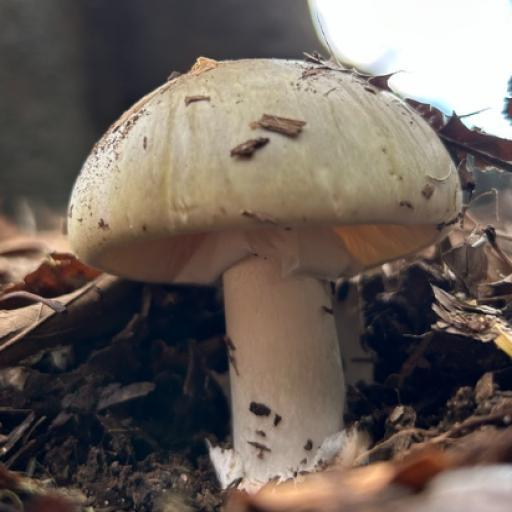mushroom: (0, 0, 501, 505)
